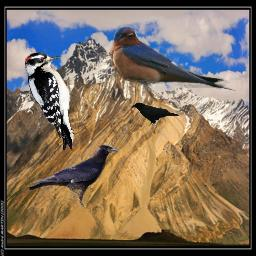Crow: (27, 144, 120, 211), (129, 101, 179, 126)
Swallow: (109, 26, 237, 92)
Woodpecker: (25, 52, 75, 151)
